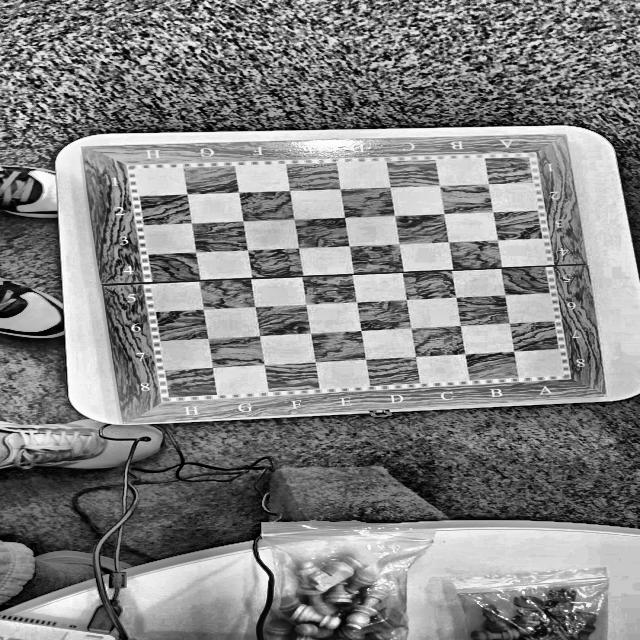chessboard: (80, 134, 617, 418)
